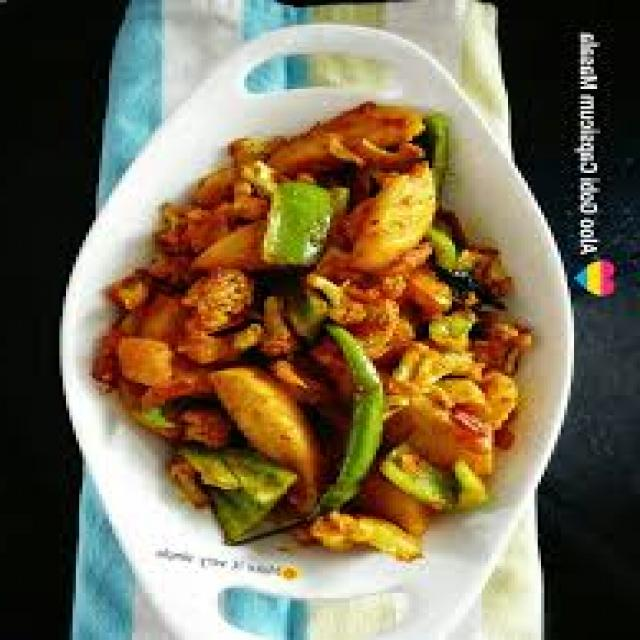Aloo Gobi: (93, 102, 516, 566)
